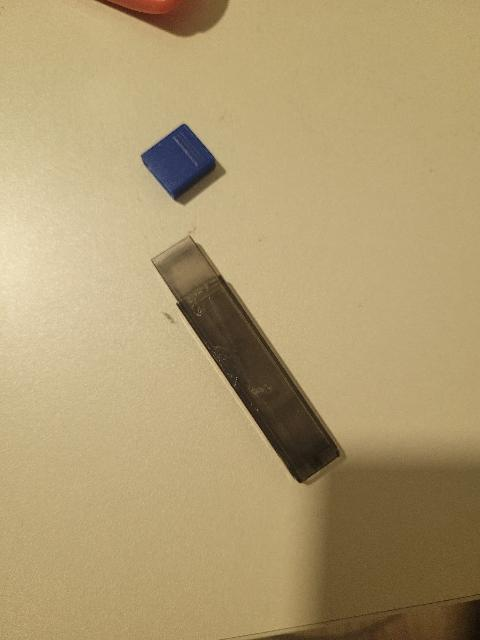Plastik: (150, 233, 351, 489), (137, 117, 229, 208)
